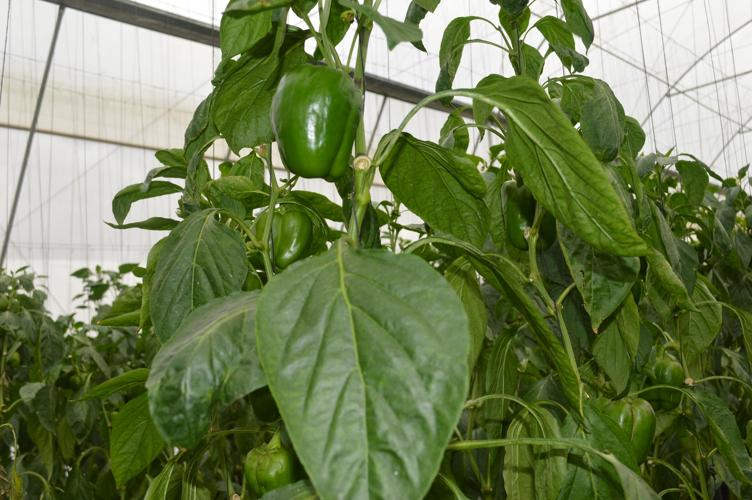BellPepper: (271, 62, 361, 186), (586, 383, 659, 469), (250, 190, 320, 270), (237, 440, 305, 495), (646, 339, 688, 390)
